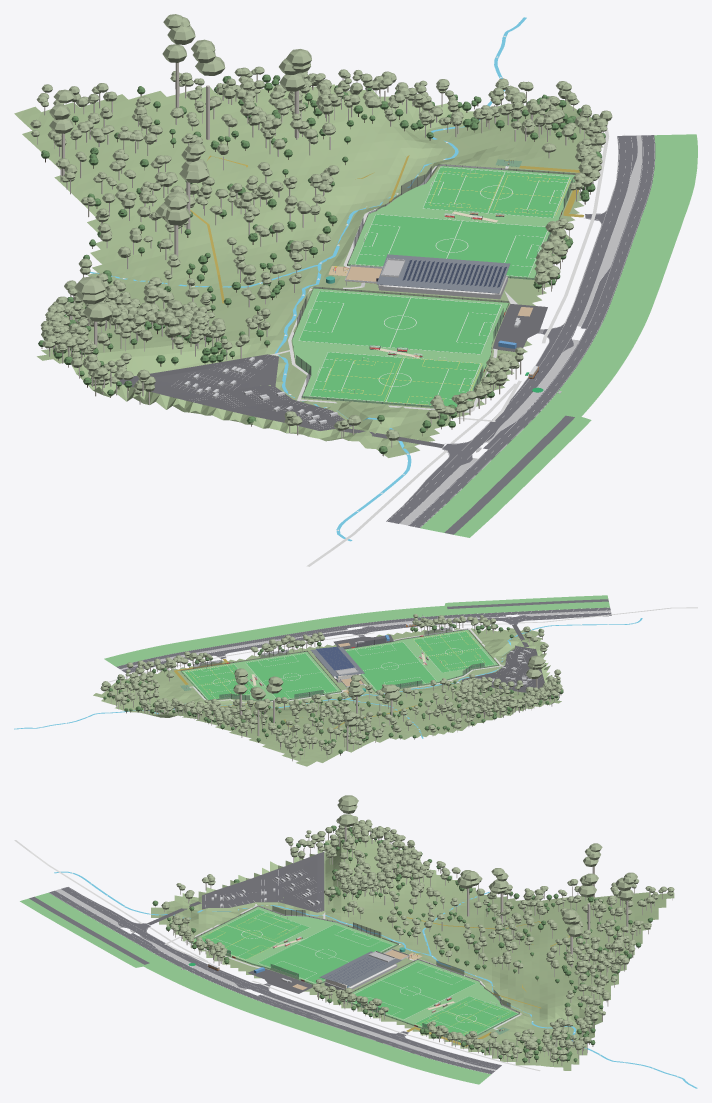
File: KHFR_winter_football.glb
3 views of the same model, one above another, from view 1: azimuth 30°, elevation 25°; view 2: azimuth 150°, elevation 25°; view 3: azimuth 270°, elevation 25° (orthographic). The views are drawn at different scales.
Parts seen in each view (by area): view 1: Reserve terrain, Bushland forest (euc_can), Road reserve (far verge), Bush planting zones (euc_can), Pitch 2, Pitch 3, Pitch 1, Swansea Rd NE-bound (surveyed both edges), Giant eucalypts (canopies), New car park (~220), Pitch 4, Swansea Rd SW-bound (2 lanes, smooth) (+19 smaller); view 2: Reserve terrain, Bushland forest (euc_can), Road reserve (far verge), Bush planting zones (euc_can), Pitch 2, Pitch 3, Pitch 1, Giant eucalypts (canopies), Swansea Rd SW-bound (2 lanes, smooth), Tennis precinct bush retained (euc_can), Swansea Rd NE-bound (surveyed both edges), Pitch 4 (+15 smaller); view 3: Reserve terrain, Bushland forest (euc_can), Road reserve (far verge), Bush planting zones (euc_can), New car park (~220), Pitch 2, Pitch 3, Swansea Rd NE-bound (surveyed both edges), Giant eucalypts (canopies), Pitch 1, Tennis precinct bush retained (euc_can), Swansea Rd SW-bound (2 lanes, smooth) (+17 smaller).
Boxes of the visible parts, left/top/right/bottom form: Reserve terrain: left=14, top=84, right=605, bottom=457; Bushland forest (euc_can): left=30, top=71, right=399, bottom=440; Road reserve (far verge): left=420, top=134, right=697, bottom=537; Bush planting zones (euc_can): left=215, top=66, right=612, bottom=414; Pitch 2: left=299, top=291, right=500, bottom=354; Pitch 3: left=355, top=214, right=547, bottom=276; Pitch 1: left=310, top=352, right=479, bottom=406; Swansea Rd NE-bound (surveyed both edges): left=386, top=135, right=637, bottom=523; Giant eucalypts (canopies): left=49, top=14, right=311, bottom=321; New car park (~220): left=119, top=354, right=352, bottom=430; Pitch 4: left=423, top=167, right=569, bottom=217; Swansea Rd SW-bound (2 lanes, smooth): left=408, top=135, right=655, bottom=527; Reserve terrain: left=93, top=628, right=561, bottom=766; Bushland forest (euc_can): left=183, top=626, right=561, bottom=757; Road reserve (far verge): left=104, top=595, right=609, bottom=666; Bush planting zones (euc_can): left=100, top=614, right=496, bottom=727; Pitch 2: left=346, top=642, right=436, bottom=690; Pitch 3: left=246, top=653, right=337, bottom=698; Pitch 1: left=414, top=631, right=494, bottom=672; Giant eucalypts (canopies): left=233, top=655, right=545, bottom=726; Swansea Rd SW-bound (2 lanes, smooth): left=116, top=607, right=610, bottom=668; Tennis precinct bush retained (euc_can): left=455, top=676, right=563, bottom=715; Swansea Rd NE-bound (surveyed both edges): left=121, top=612, right=611, bottom=673; Pitch 4: left=185, top=664, right=253, bottom=699; Reserve terrain: left=151, top=831, right=674, bottom=1070; Bushland forest (euc_can): left=161, top=823, right=674, bottom=985; Road reserve (far verge): left=20, top=892, right=490, bottom=1084; Bush planting zones (euc_can): left=169, top=914, right=635, bottom=1062; New car park (~220): left=202, top=852, right=324, bottom=912; Pitch 2: left=258, top=924, right=392, bottom=983; Pitch 3: left=354, top=962, right=475, bottom=1019; Swansea Rd NE-bound (surveyed both edges): left=61, top=887, right=501, bottom=1069; Giant eucalypts (canopies): left=337, top=795, right=637, bottom=937; Pitch 1: left=194, top=909, right=309, bottom=959; Tennis precinct bush retained (euc_can): left=298, top=816, right=417, bottom=894; Swansea Rd SW-bound (2 lanes, smooth): left=49, top=890, right=494, bottom=1074.
Size of the model in its own units: 495 by 86.35 by 604.
